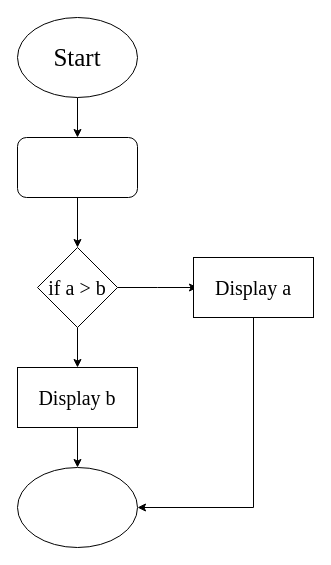
Some shapes in this 331 by 565 pixel diagram are drawn without their labels. The shapes that lost their labels are listed below. From the top down, each one's centre as x and y in pixels, then its label:
At point (77, 167): "Input a and b value".
At point (77, 507): "End".
